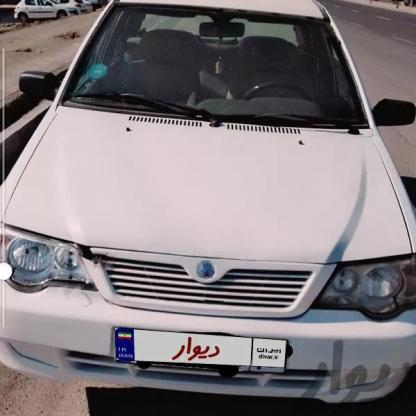Car: (0, 0, 416, 416), (9, 0, 90, 19)
